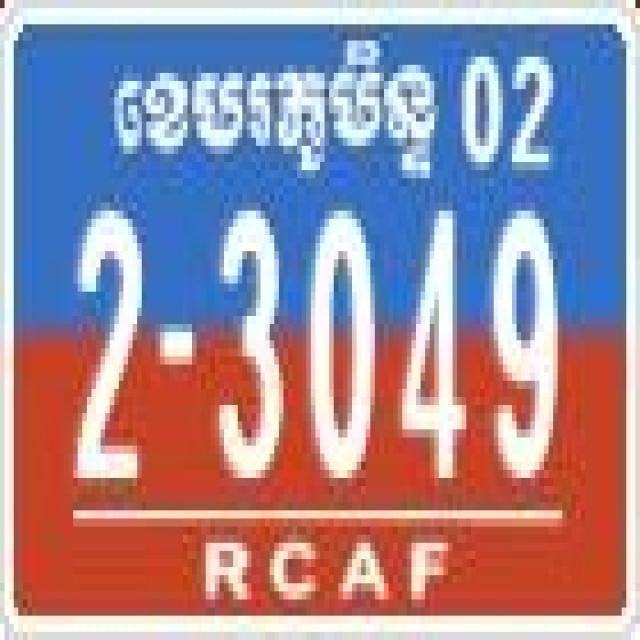RCAF: (110, 33, 445, 203)
